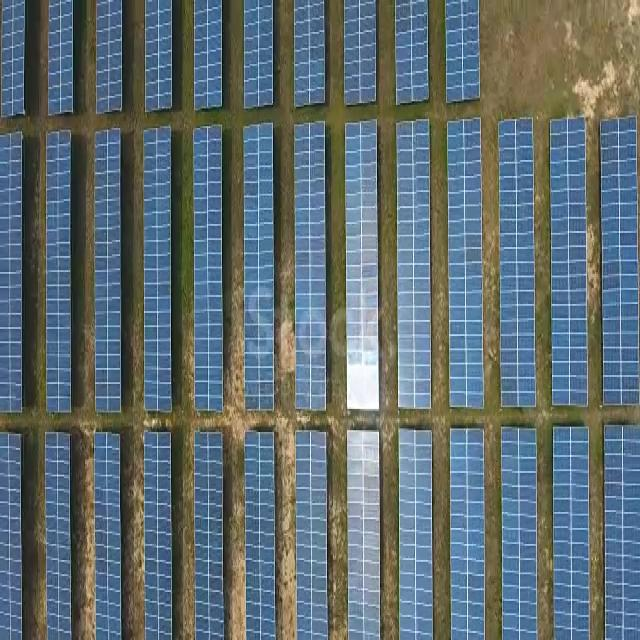Solar-panels: (499, 118, 537, 407), (449, 120, 486, 411), (602, 116, 639, 404), (398, 120, 434, 413), (551, 119, 588, 404), (347, 118, 380, 410), (295, 122, 326, 412), (196, 124, 226, 412), (94, 131, 124, 416), (245, 127, 275, 411), (397, 430, 435, 640), (554, 427, 591, 640), (502, 430, 539, 640), (449, 428, 485, 640), (605, 428, 640, 640), (146, 129, 172, 413), (46, 133, 71, 412), (297, 433, 330, 640), (349, 430, 380, 640), (1, 134, 24, 413), (247, 433, 277, 640), (195, 434, 225, 640), (145, 432, 173, 640), (94, 432, 121, 640), (47, 436, 71, 640), (1, 433, 23, 639)
